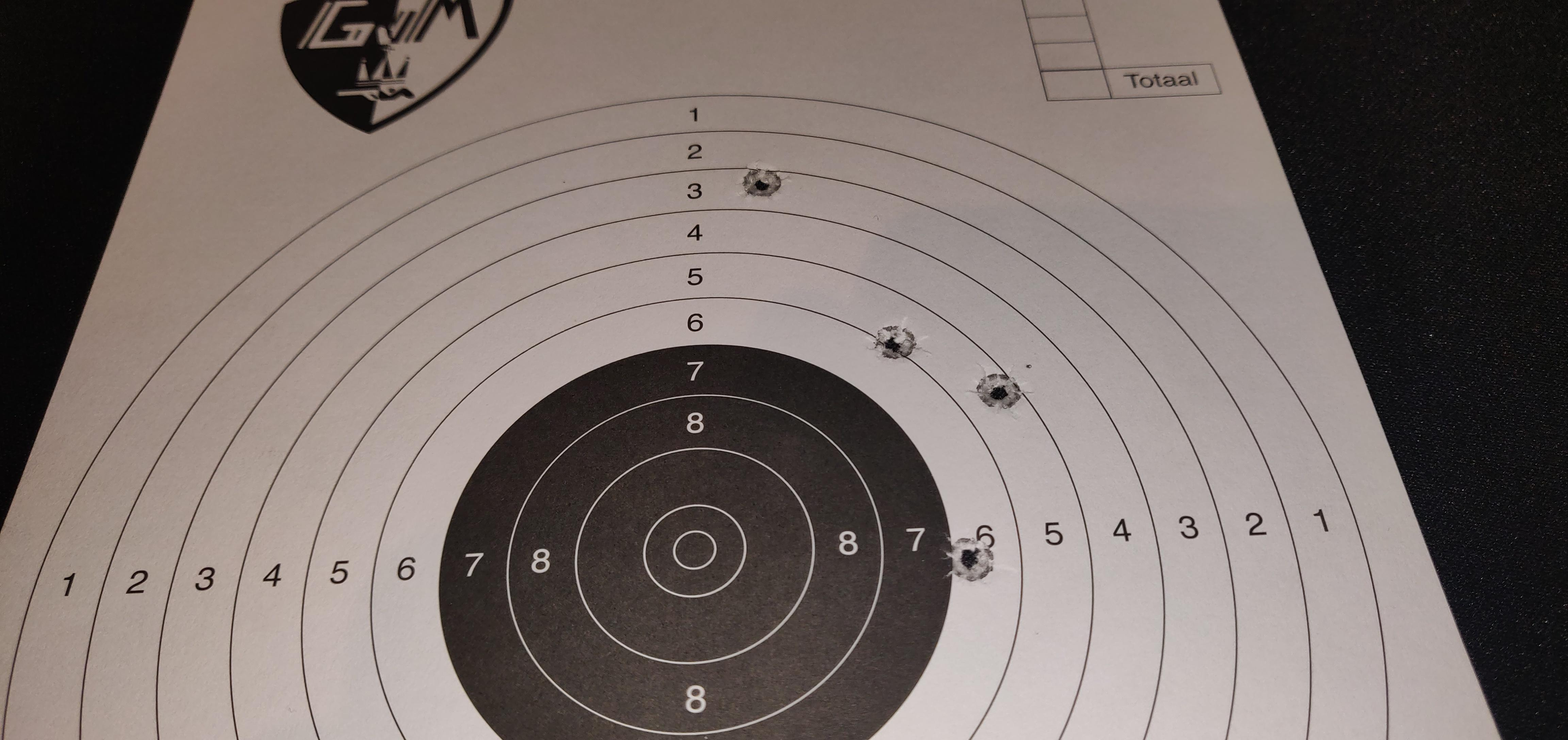hole: (967, 361, 1035, 417), (938, 529, 997, 588), (866, 316, 931, 361), (738, 161, 792, 202)
